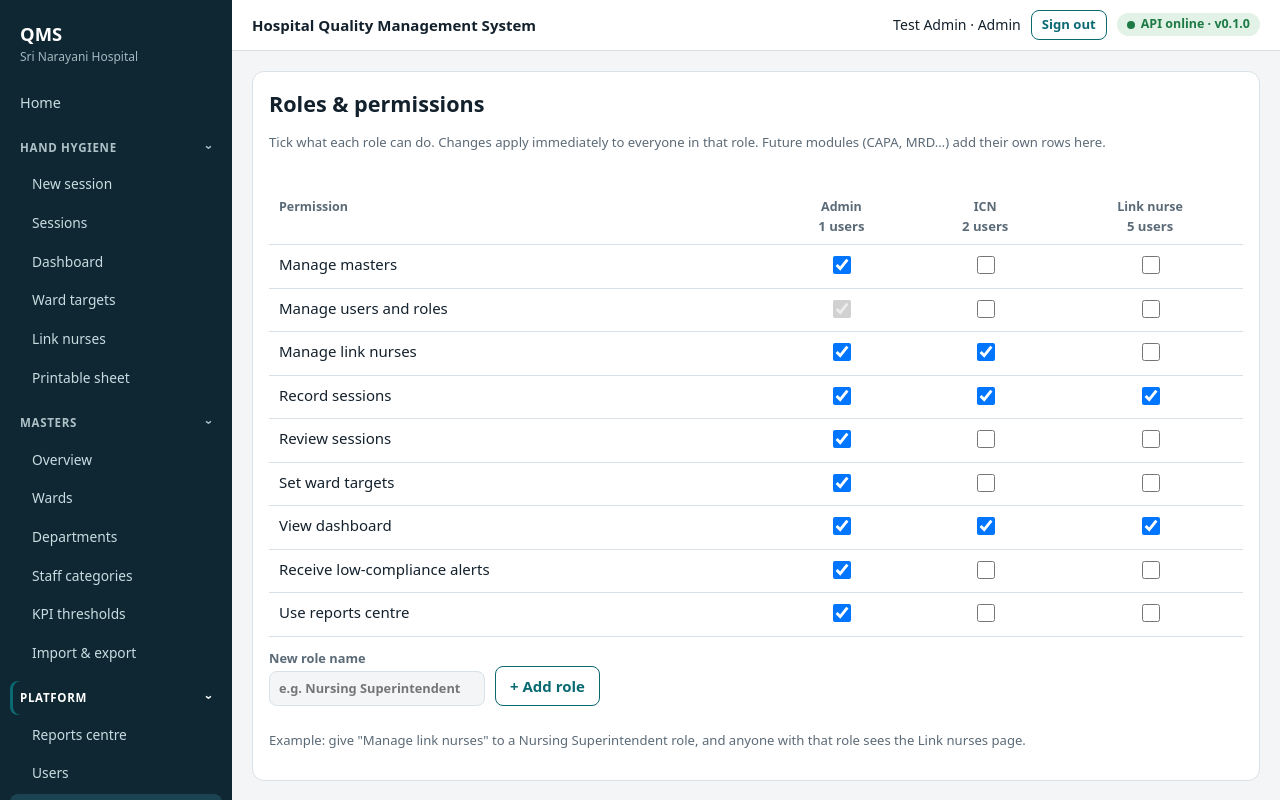
it: Roles page › saves a change immediately and shows a toast
Expected: the column heading "Manage masters" is shown, [269,245,770,288]
Click the checkbox named "ICN: Manage masters" at (986, 265), box [977,256,995,274]
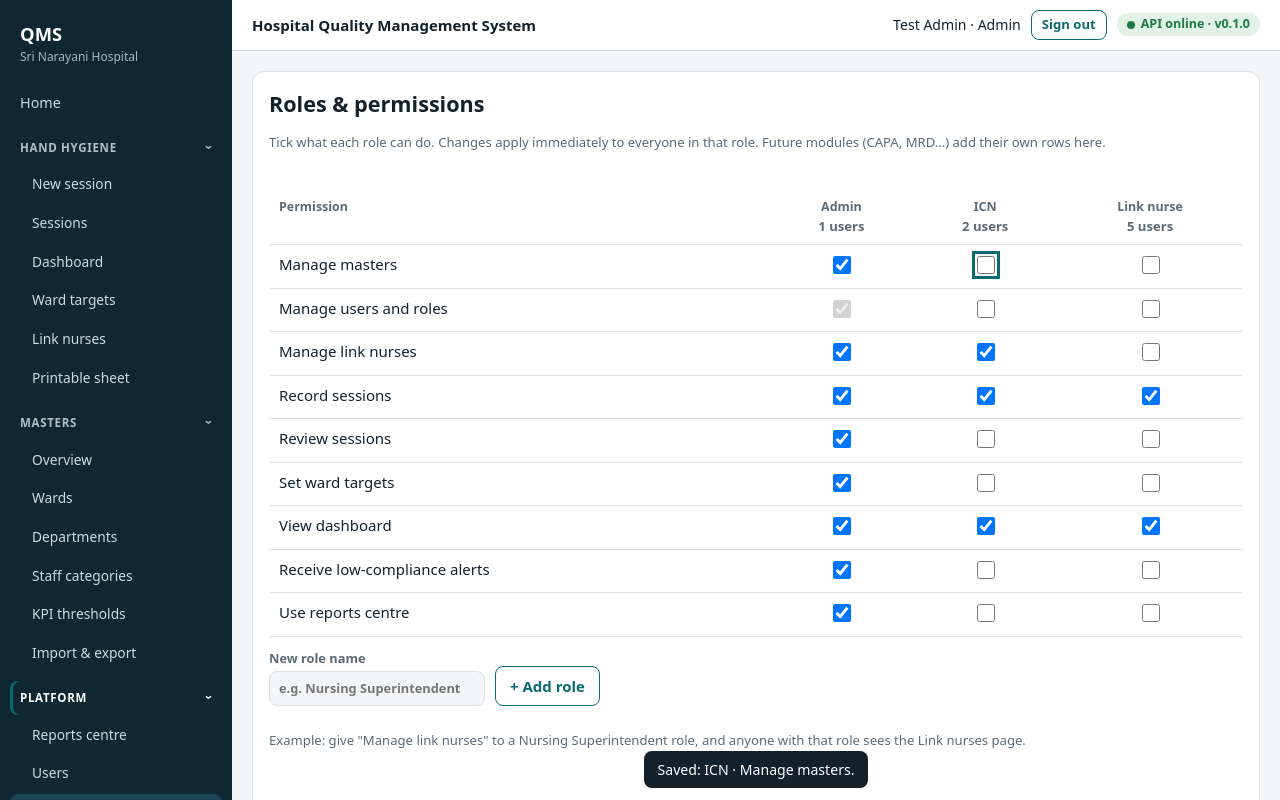
Expected: the text "Saved: ICN · Manage masters." is shown, [644,751,868,788]
